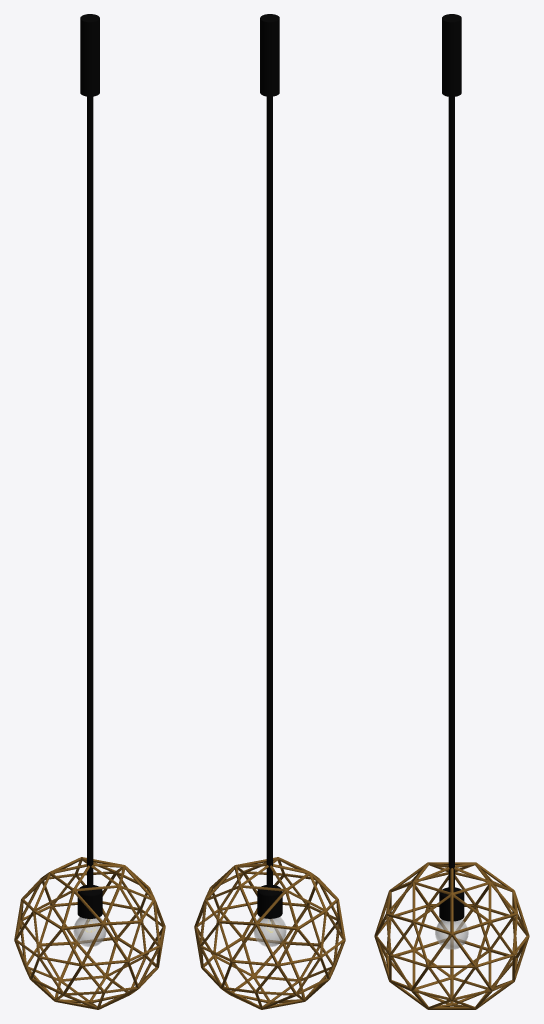
The model's file is stylish_ceiling_lamp.glb.
The picture shows the model from 3 angles, left to right: view 1: azimuth 30°, elevation 25°; view 2: azimuth 150°, elevation 25°; view 3: azimuth 270°, elevation 25°; orthographic projection.
Visible parts, largest first — view 1: cage, cable, glass; view 2: cage, cable, glass; view 3: cage, cable, glass.
Part boxes in pixels (<box>): cage: <box>14,857,165,1009</box>; cable: <box>77,14,102,918</box>; glass: <box>73,917,106,946</box>; cage: <box>194,857,345,1009</box>; cable: <box>257,14,282,918</box>; glass: <box>254,917,286,946</box>; cage: <box>374,862,529,1009</box>; cable: <box>439,14,464,921</box>; glass: <box>435,919,468,949</box>.
Size of the model in its own units: 0.0024 by 0.0177 by 0.00252.
